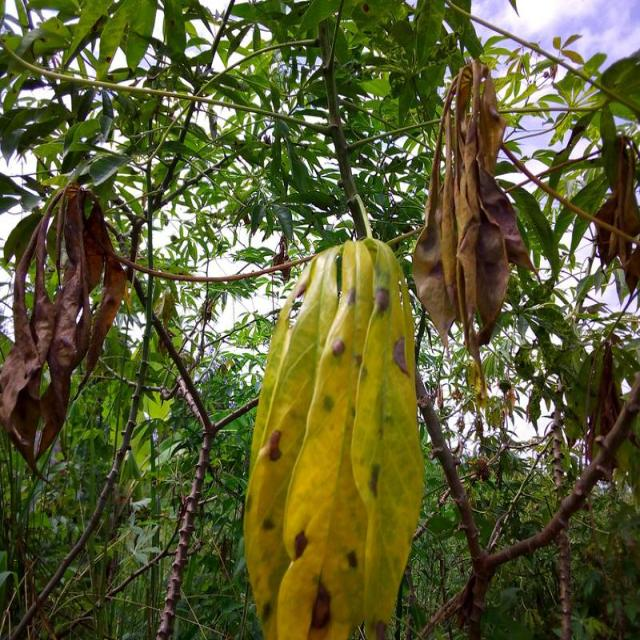cassava leaf: (242, 235, 424, 638), (410, 58, 538, 405)
